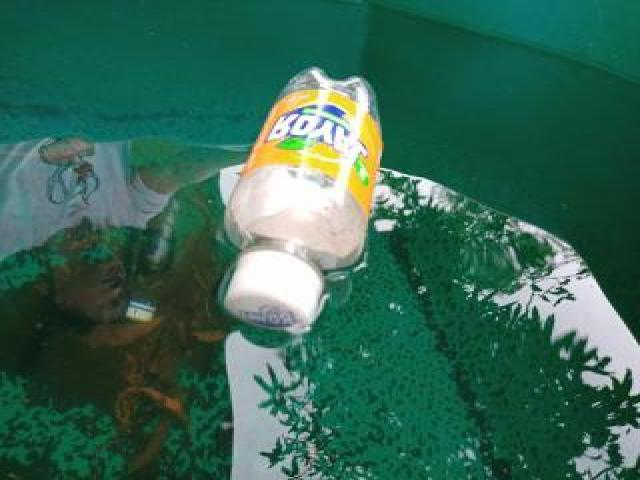Bottle: (210, 61, 407, 335), (112, 194, 206, 326)
